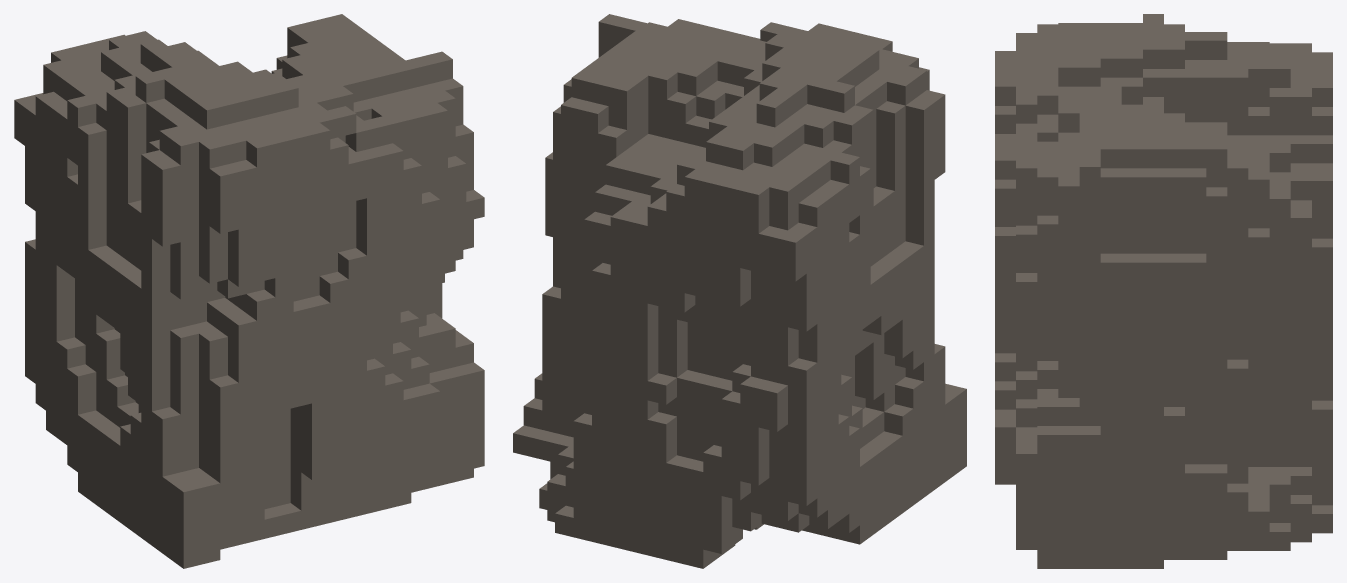
Rendered from Stone.fbx.
The picture shows the model from 3 angles, left to right: view 1: azimuth 30°, elevation 25°; view 2: azimuth 150°, elevation 25°; view 3: azimuth 270°, elevation 25°; orthographic projection.
Visible parts, largest first — view 1: StonePlyCleaned; view 2: StonePlyCleaned; view 3: StonePlyCleaned.
Boxes of the visible parts, box(x1,y1,x2,y2) form: StonePlyCleaned: box(14, 14, 484, 568); StonePlyCleaned: box(513, 14, 966, 568); StonePlyCleaned: box(995, 14, 1332, 568).
Size of the model in its own units: 170 by 220 by 160.
1 material, 1 textured.
